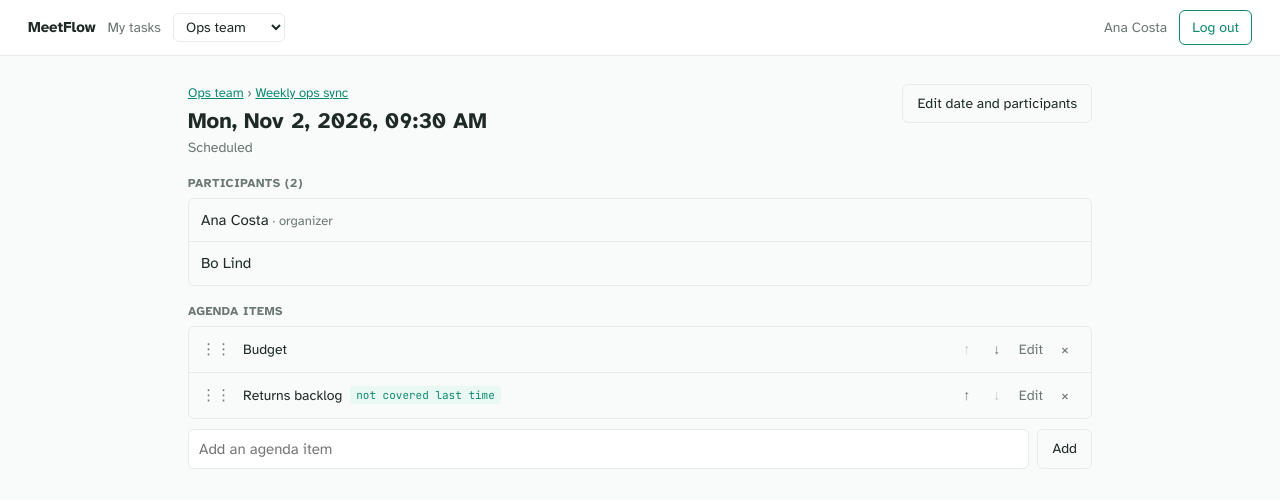
the agenda › closes the confirmation and says so when removing fails
Step 1. Click the button named "Remove Returns backlog" → (1065, 395), box [1051,382,1079,408]
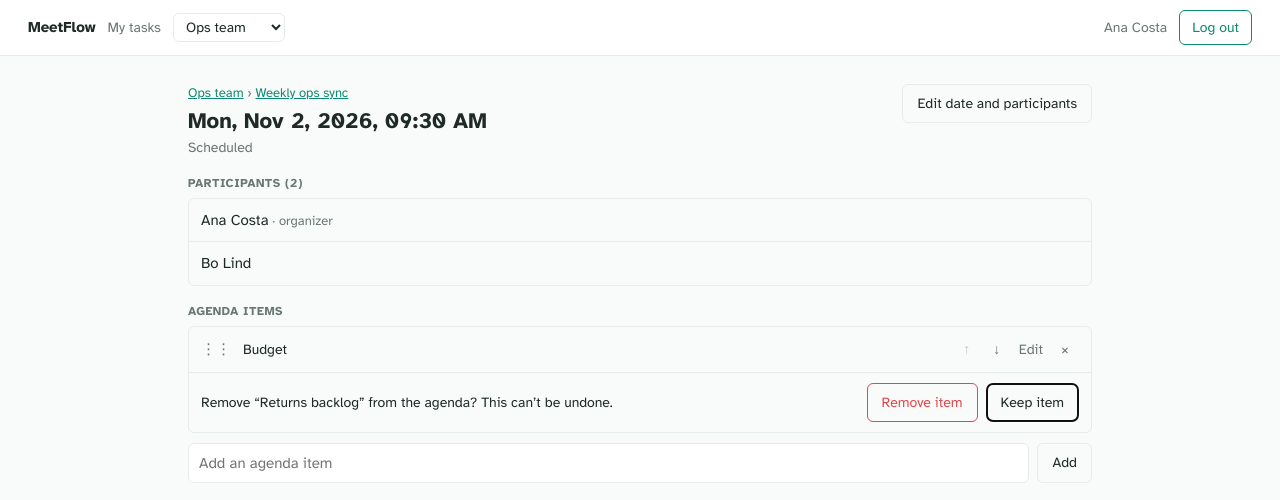
Step 2. Click the button "Remove item" → (922, 402), box [867,382,978,422]
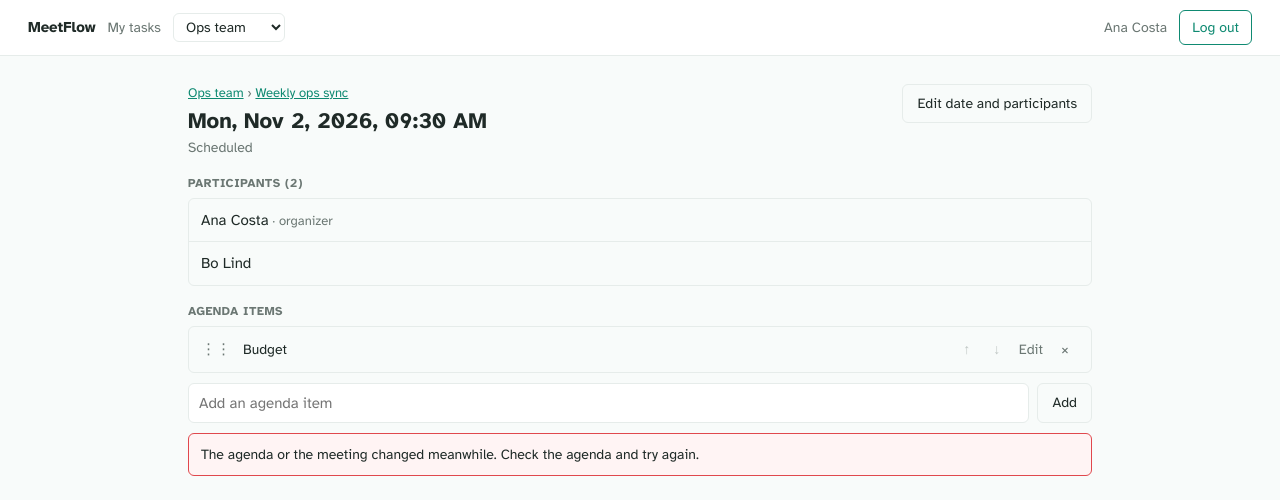
expect the message shows "changed meanwhile": met, box [201,446,699,463]
expect the button "Remove item" is gone: met
